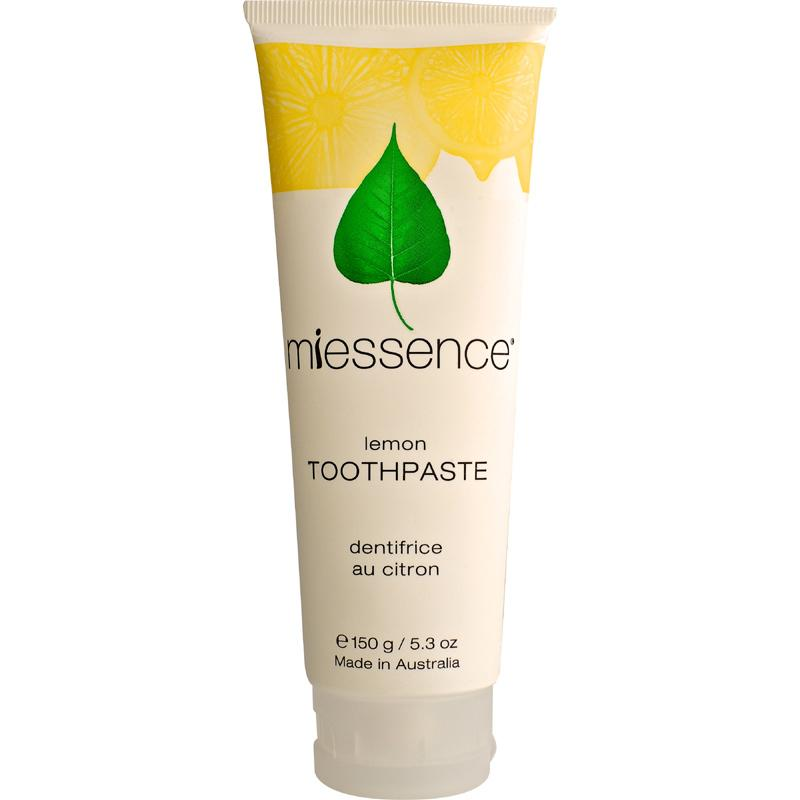toothpaste: (225, 0, 581, 792)
